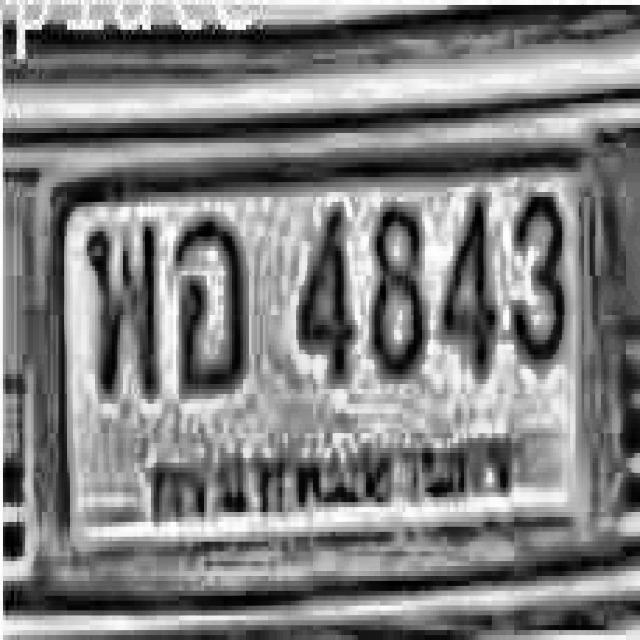license-plate: (18, 148, 630, 584)
